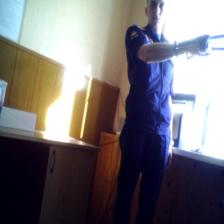drone: (170, 27, 224, 59)
